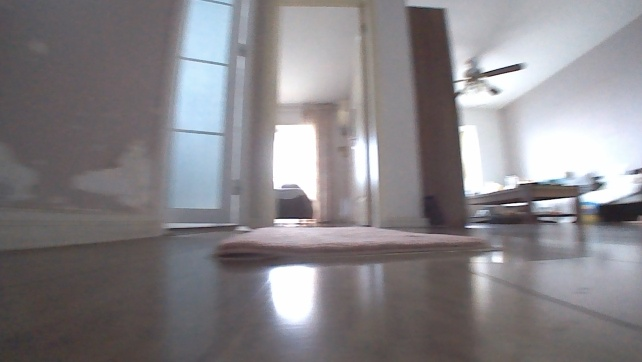blanket: (210, 220, 506, 263)
door_anno: (160, 0, 263, 225)
